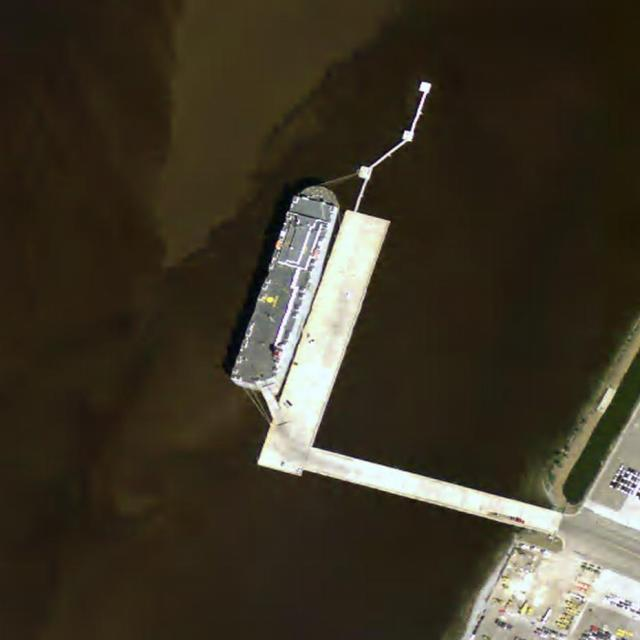Dock: (255, 206, 392, 478)
RoRo: (228, 174, 345, 400)
